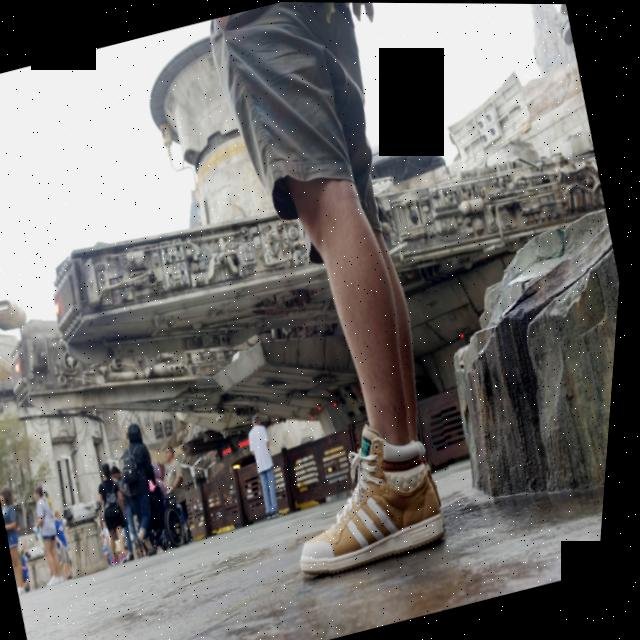shoe: (273, 394, 486, 590)
